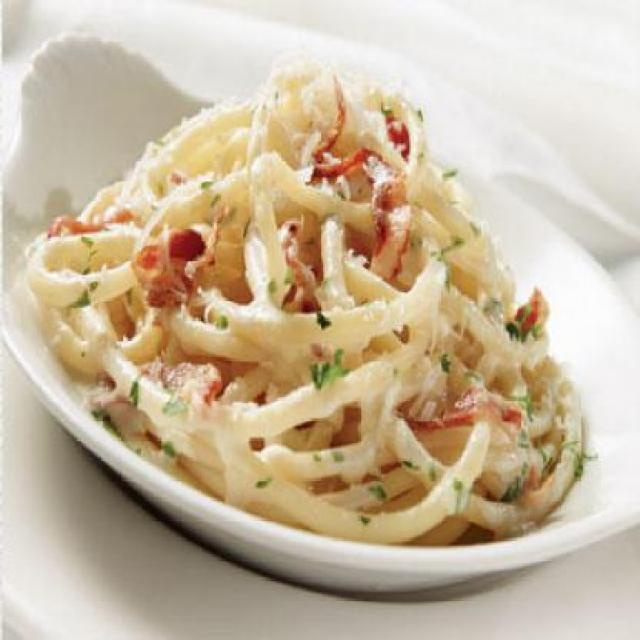Pasta with carbonara sauce: (29, 29, 608, 574)
